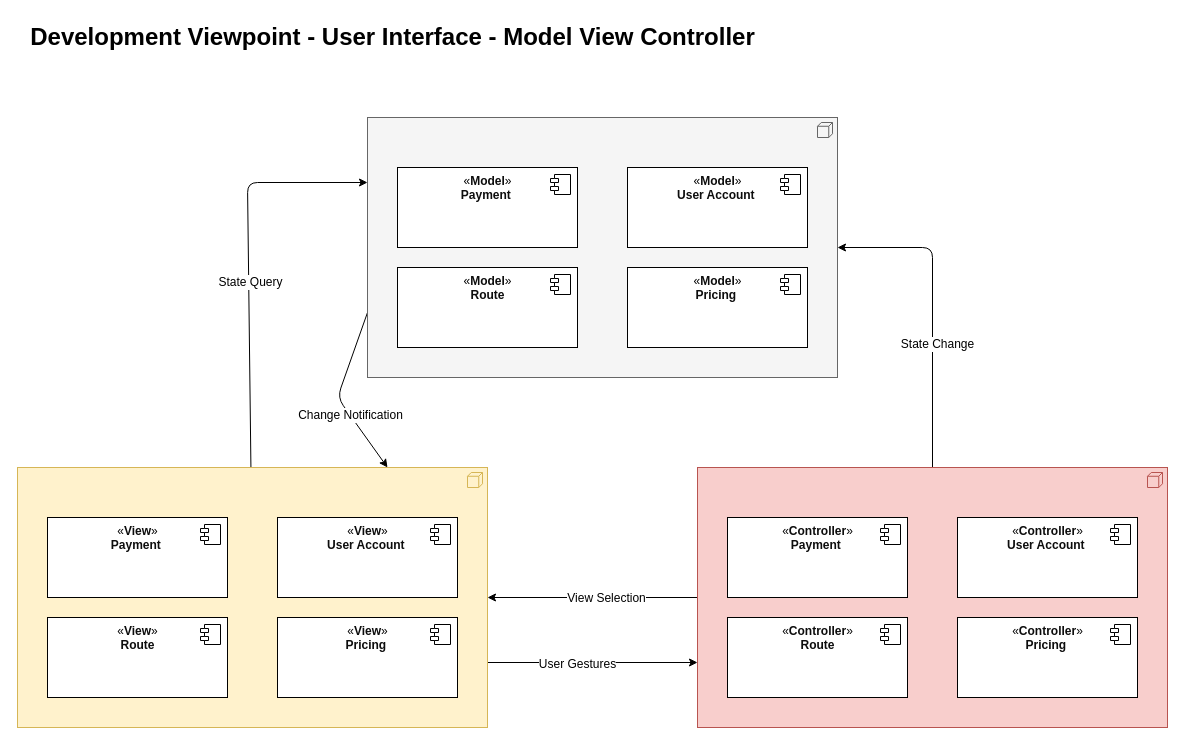
Some shapes in this 1185 by 745 pixel diagram are drawn without their labels. The box of each missing label's shape, as (x1, y1, x2, y2) in pixels:
Controllers: (696, 466, 1168, 728)
Models: (366, 116, 838, 378)
Views: (16, 466, 488, 728)
